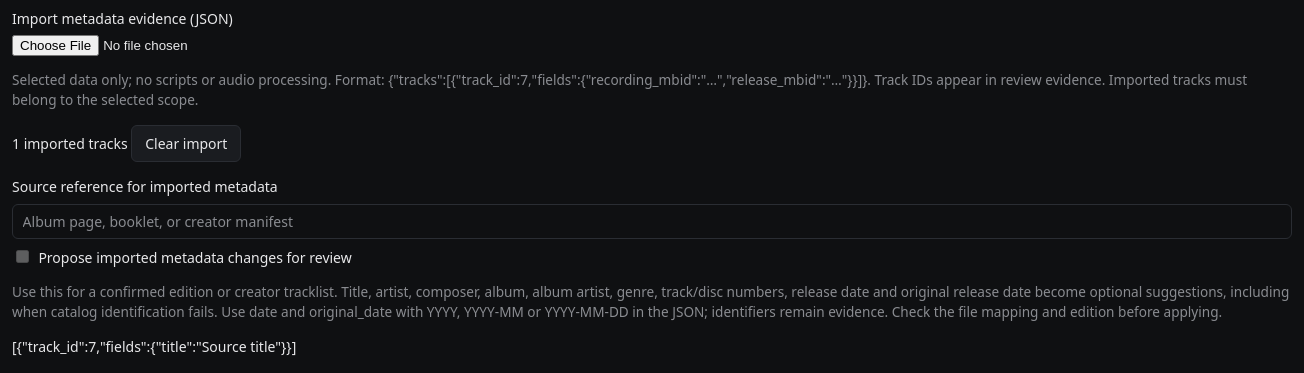
Test: source and edition review › keeps imported evidence passive until the operator supplies a source and opts into proposals
Expected: the checkbox labelled "Propose imported metadata changes for review" is not checked, [16,250,29,263]
Expected: the checkbox labelled "Propose imported metadata changes for review" is disabled, [16,250,29,263]
Type "Creator tracklist" into the field labelled "Source reference for imported metadata" at (652, 221), box [12,204,1292,239]
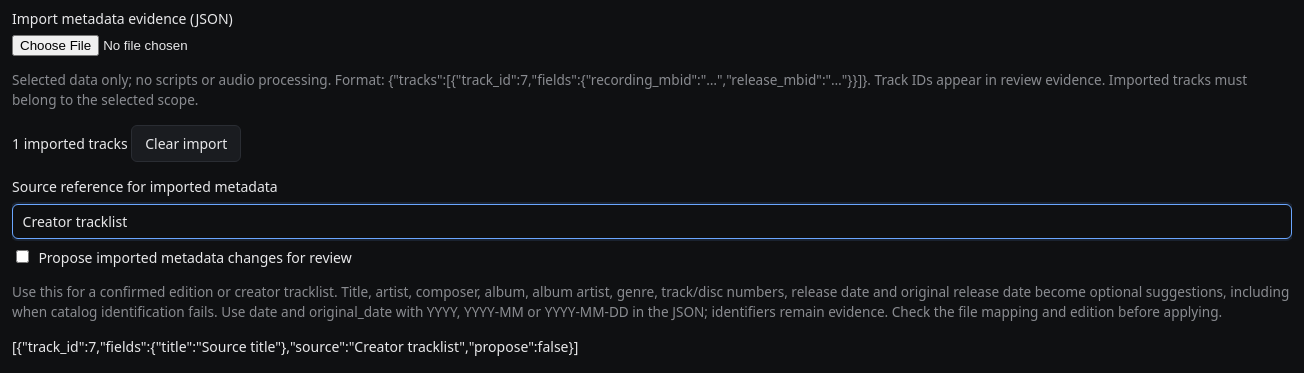
Now the checkbox labelled "Propose imported metadata changes for review" is enabled
Click the checkbox labelled "Propose imported metadata changes for review" at (22, 257), box [16,250,29,263]
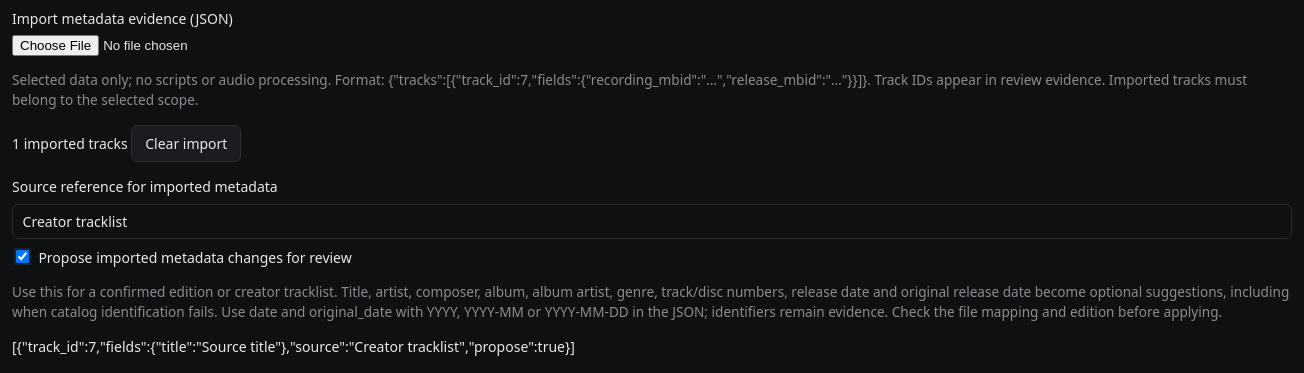
Clear the field labelled "Source reference for imported metadata" at (652, 221), box [12,204,1292,239]
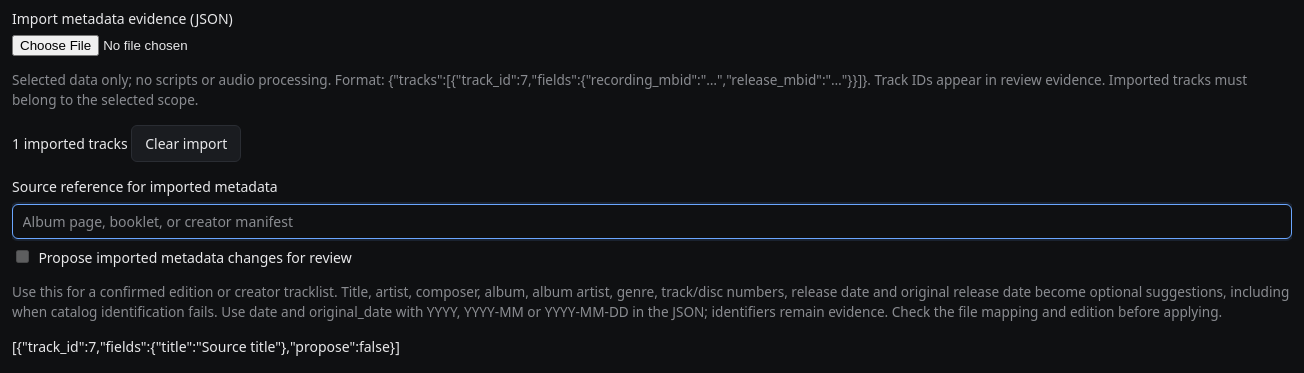
Now the checkbox labelled "Propose imported metadata changes for review" is not checked, box [16,250,29,263]
Now the checkbox labelled "Propose imported metadata changes for review" is disabled, box [16,250,29,263]
